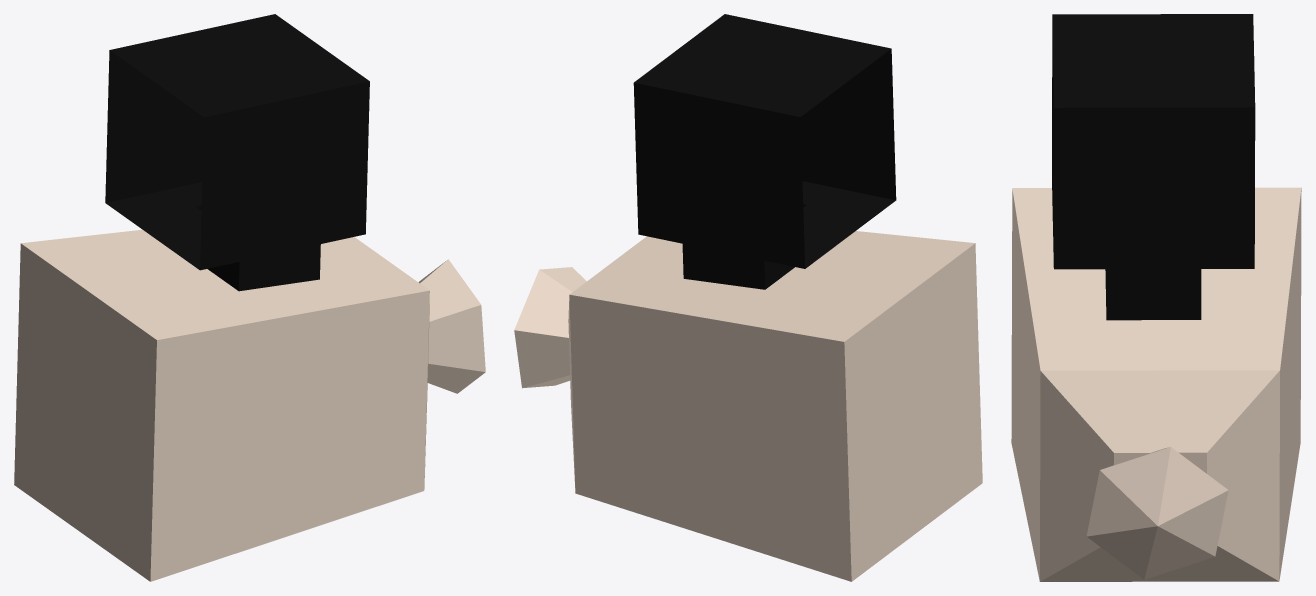
The model's file is boat_engine.FBX.
3 renders of one model, left to right at view 1: azimuth 30°, elevation 25°; view 2: azimuth 150°, elevation 25°; view 3: azimuth 270°, elevation 25°, orthographic. The views are drawn at different scales.
Parts seen in each view (by area): view 1: boat_engine; view 2: boat_engine; view 3: boat_engine.
Boxes of the visible parts, left/top/right/bottom form: boat_engine: left=14, top=14, right=485, bottom=581; boat_engine: left=514, top=14, right=982, bottom=581; boat_engine: left=1011, top=14, right=1301, bottom=581.
Size of the model in its own units: 10.88 by 11.4 by 6.41.
